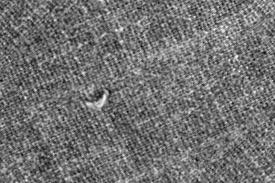snag: (80, 88, 118, 109)
